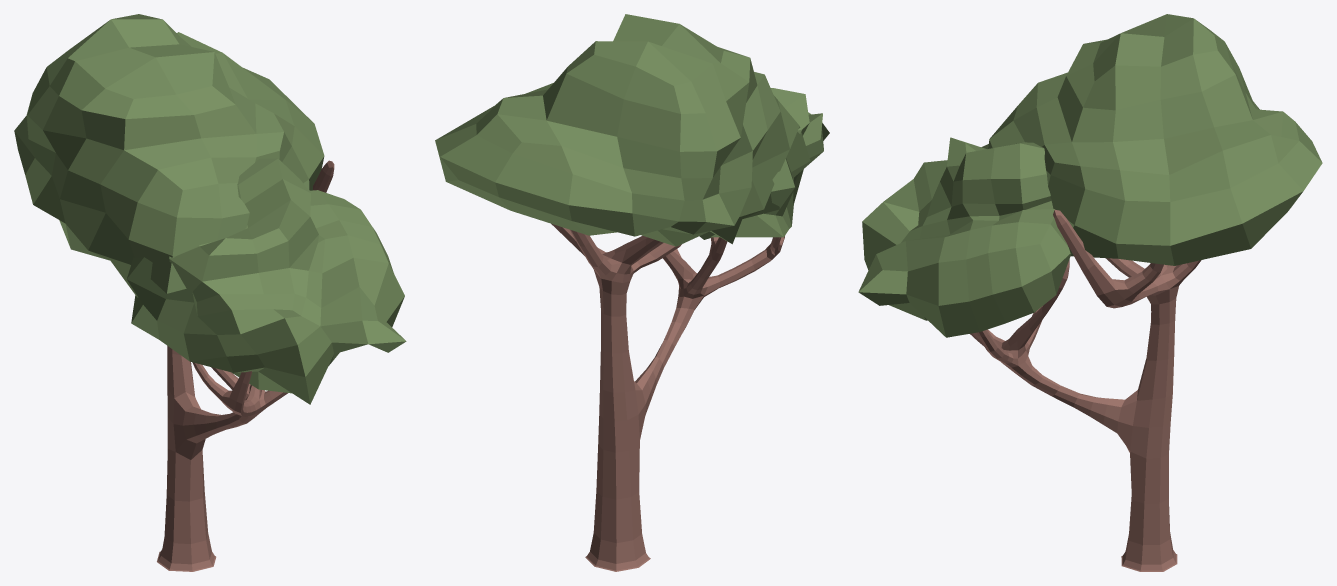
The model's file is oak_2.glb.
3 renders of one model, left to right at view 1: azimuth 30°, elevation 25°; view 2: azimuth 150°, elevation 25°; view 3: azimuth 270°, elevation 25°, orthographic. The views are drawn at different scales.
Visible parts, largest first — view 1: oak_2; view 2: oak_2; view 3: oak_2.
Boxes of the visible parts, <box> form: oak_2: <box>14,14,406,571</box>; oak_2: <box>435,14,829,571</box>; oak_2: <box>858,14,1322,571</box>.
Size of the model in its own units: 1.66 by 3.12 by 2.54.
